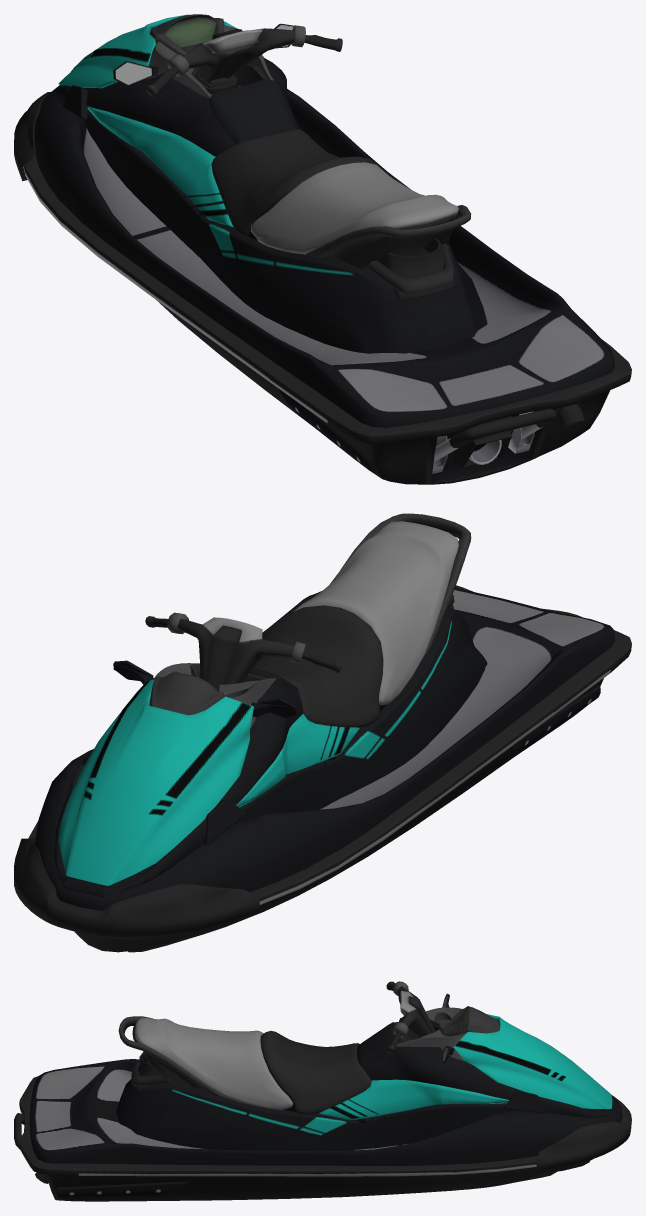
The model's file is jetski.glb.
The picture shows the model from 3 angles, top to bottom: view 1: azimuth 30°, elevation 25°; view 2: azimuth 150°, elevation 25°; view 3: azimuth 270°, elevation 25°; orthographic projection. The views are drawn at different scales.
Visible parts, largest first — view 1: Object_2; view 2: Object_2; view 3: Object_2.
Part boxes in pixels (left/top/right/bottom): Object_2: left=14, top=14, right=631, bottom=484; Object_2: left=14, top=513, right=631, bottom=952; Object_2: left=14, top=981, right=631, bottom=1201.
Bounding box in the file's own units: 8.46 × 7.63 × 22.54.
1 material, 1 textured.
